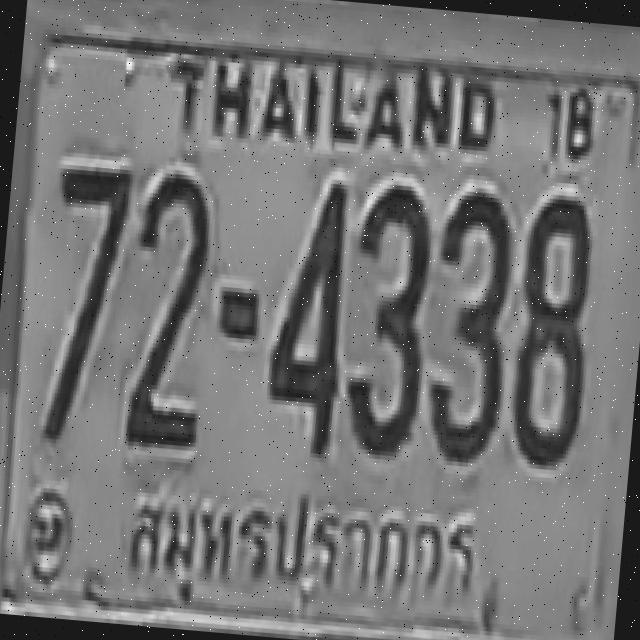2: (121, 167, 217, 451)
3: (340, 178, 436, 458), (421, 187, 516, 462)
4: (262, 174, 352, 452)
7: (37, 162, 133, 446)
8: (505, 192, 598, 467)
SamutPrakan: (116, 463, 489, 631)
